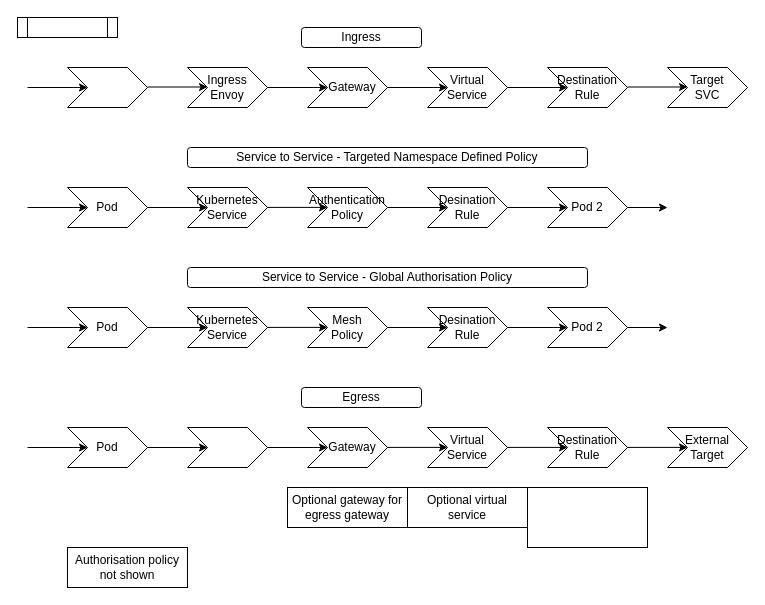
The diagram is 765 pixels wide and 605 high, and some of its shapes have lost their labels. The centre of each missing label's shape, as x and y in pixels:
"External" belongs at point (67, 27).
"Optional destination rule e.g. MTLS or TLS origination" belongs at point (587, 517).
"Service Entry" belongs at point (227, 447).
"SVC" belongs at point (107, 87).
